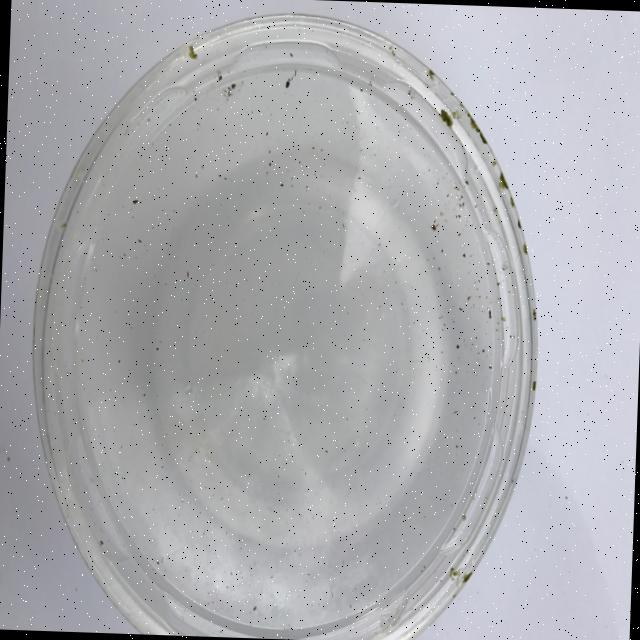plastic: (21, 3, 550, 640)
